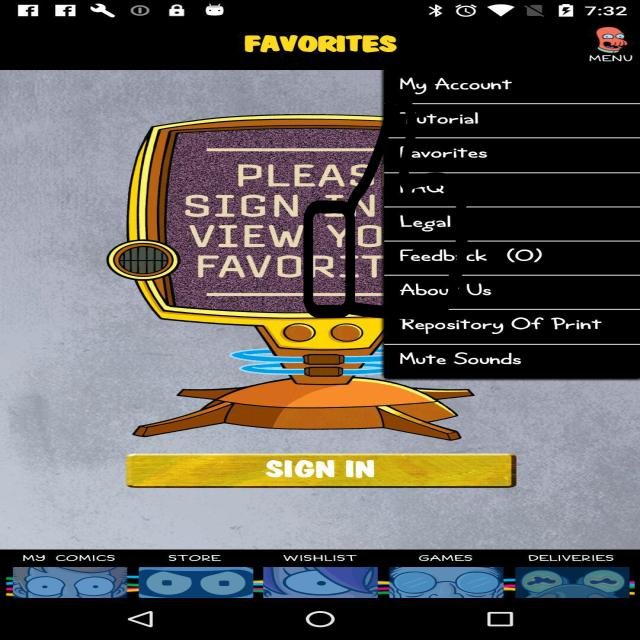privacy zuckering: (301, 91, 472, 320)
